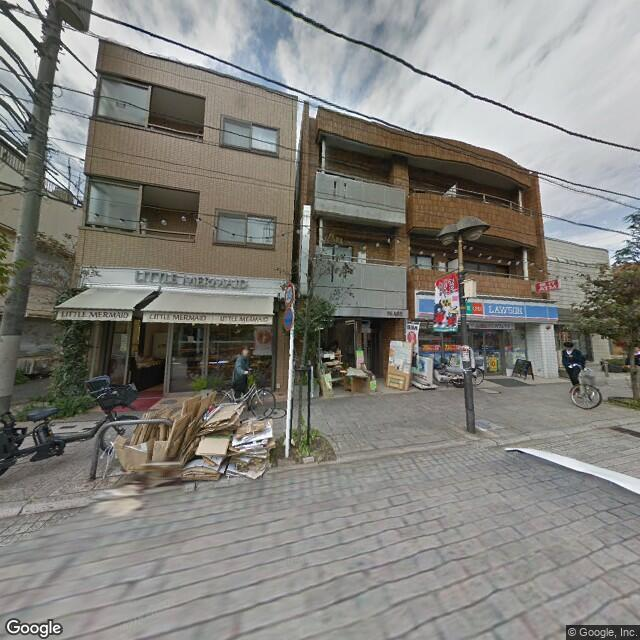lawson: (416, 291, 561, 325)
